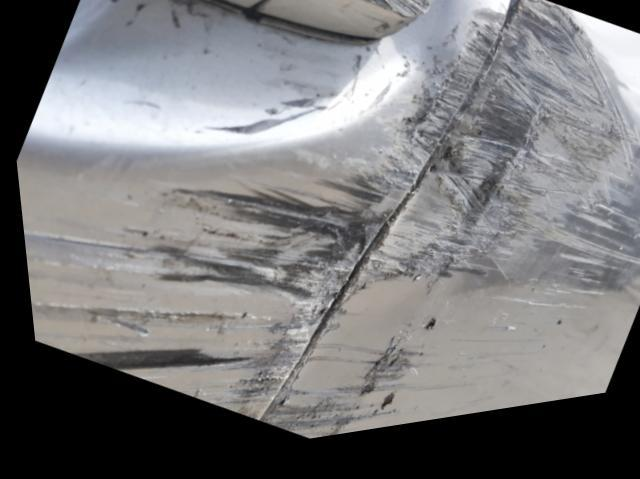scratch: (17, 16, 506, 427), (249, 12, 640, 447), (208, 69, 370, 148), (325, 0, 433, 26)
